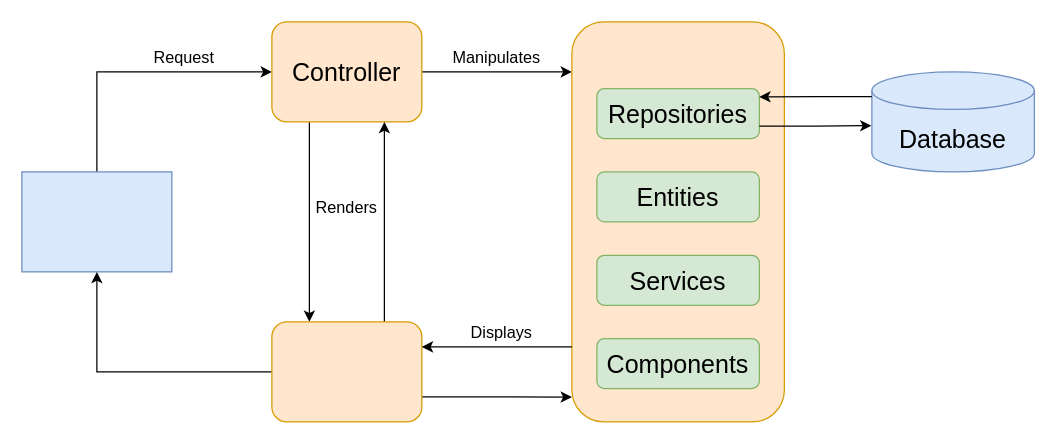
This 1056x444 diagram has some shape labels left out. Here are the shapes that lost their labels. From the top down, the box of each, then its label:
(21, 171, 172, 272): Browser
(571, 21, 784, 422): Model
(271, 321, 422, 422): View
